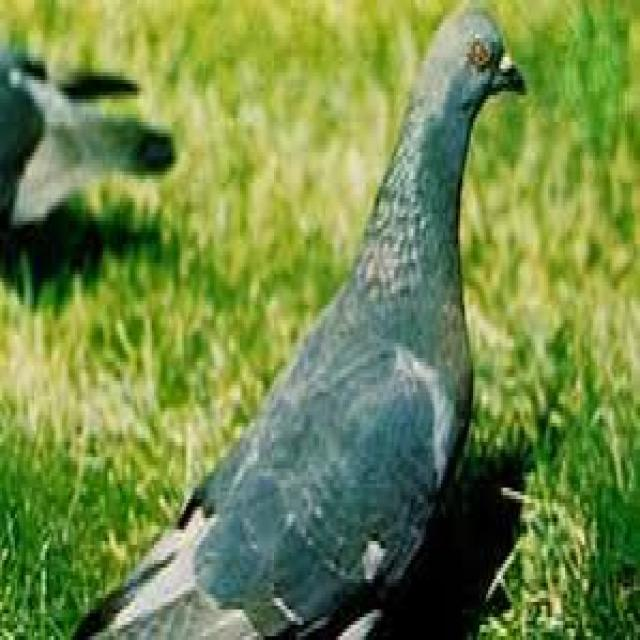Pigeon: (77, 7, 529, 640)
